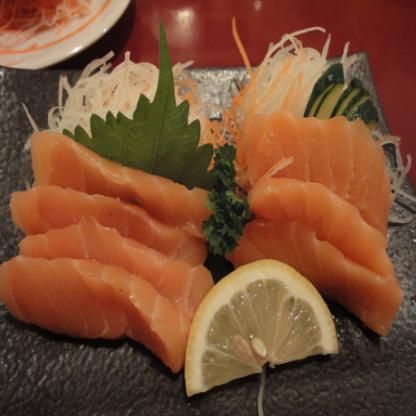lemon: (184, 261, 336, 391)
salmon: (0, 129, 211, 362), (232, 115, 399, 328)
